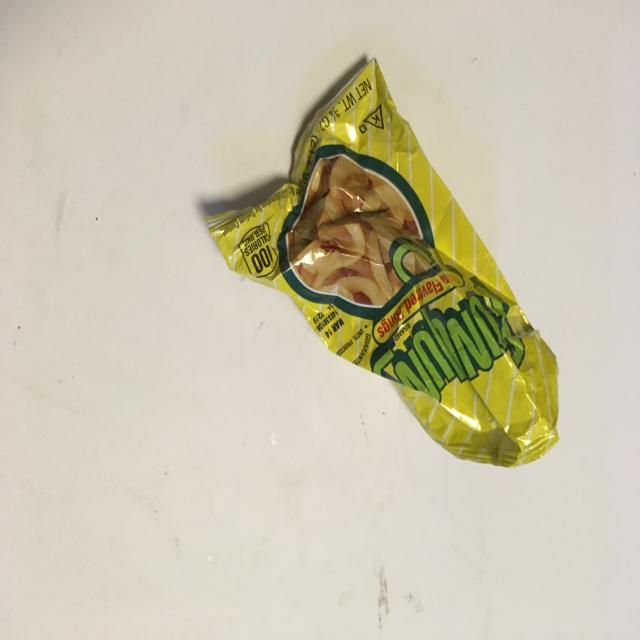Plastic: (177, 39, 563, 505)
